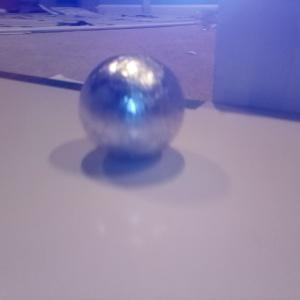alive_ball: (79, 52, 184, 159)
